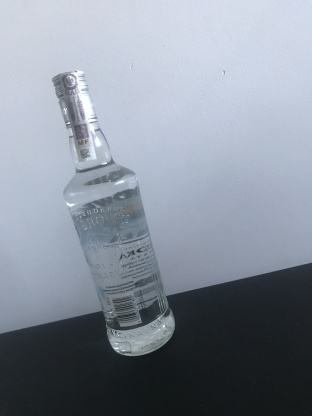nakretka: (50, 67, 99, 130)
